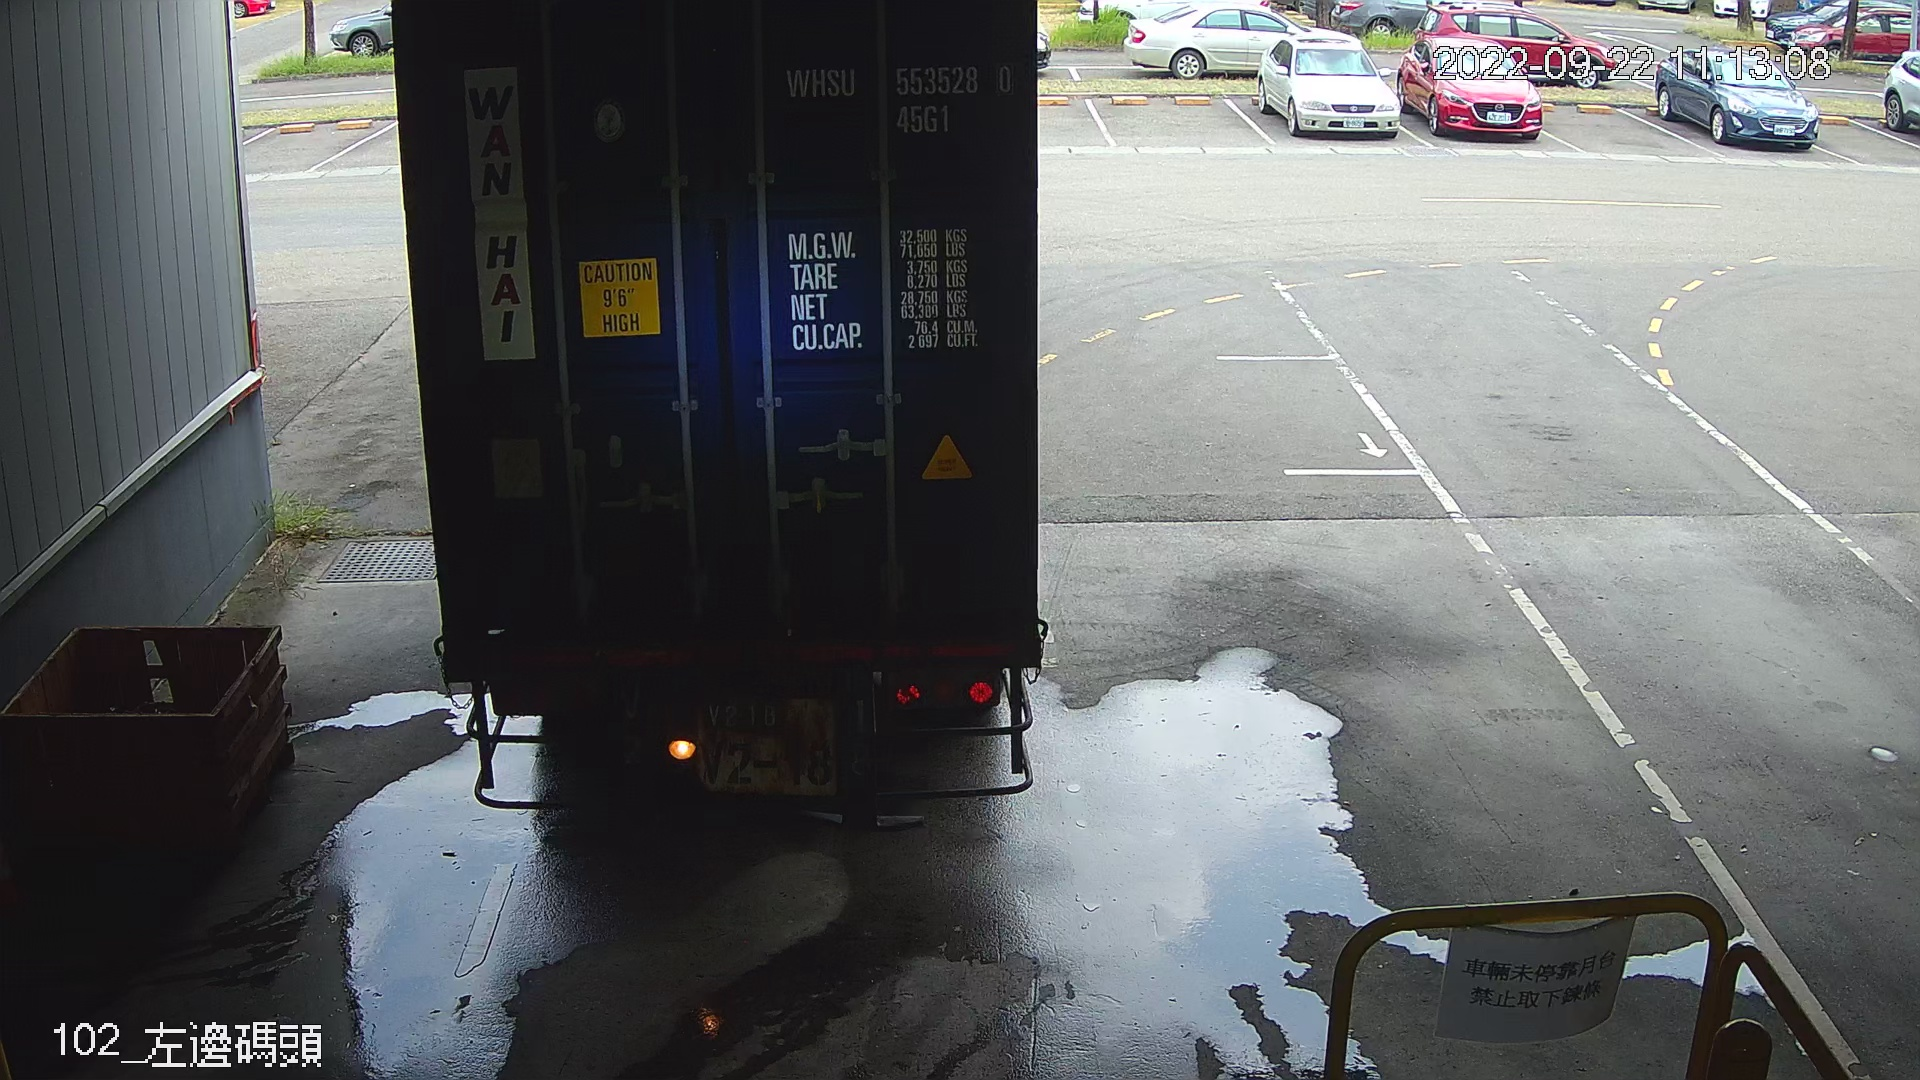container: (767, 54, 1021, 142)
